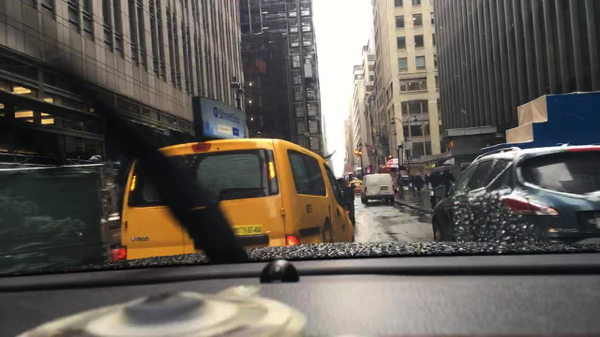car: (119, 138, 354, 264), (431, 145, 599, 242), (359, 173, 394, 204), (337, 177, 357, 225), (349, 180, 364, 194)
motor: (396, 176, 406, 200)
person: (439, 165, 456, 190), (430, 170, 440, 190), (414, 175, 424, 190), (423, 174, 430, 189), (411, 175, 415, 190)
traffic light: (355, 150, 359, 156), (358, 150, 361, 156)
traffic sign: (404, 142, 412, 149)
truck: (1, 160, 125, 277), (351, 177, 361, 182)
